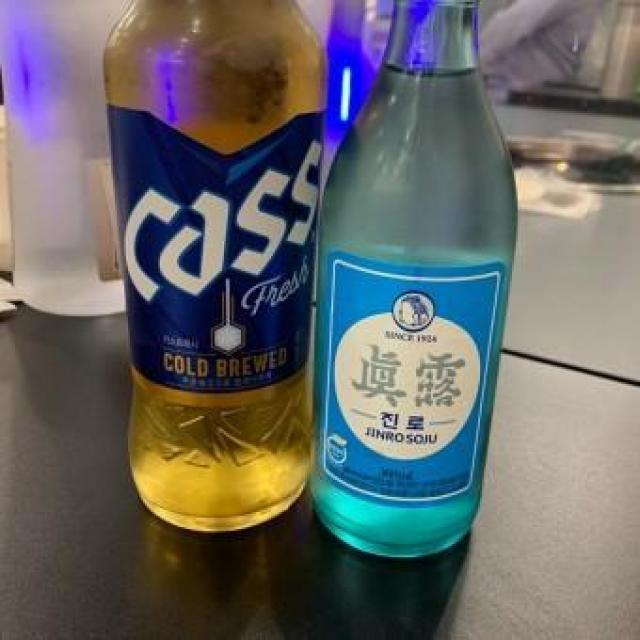beer-bottle: (93, 0, 334, 533)
soju-bottle: (317, 0, 511, 555)
